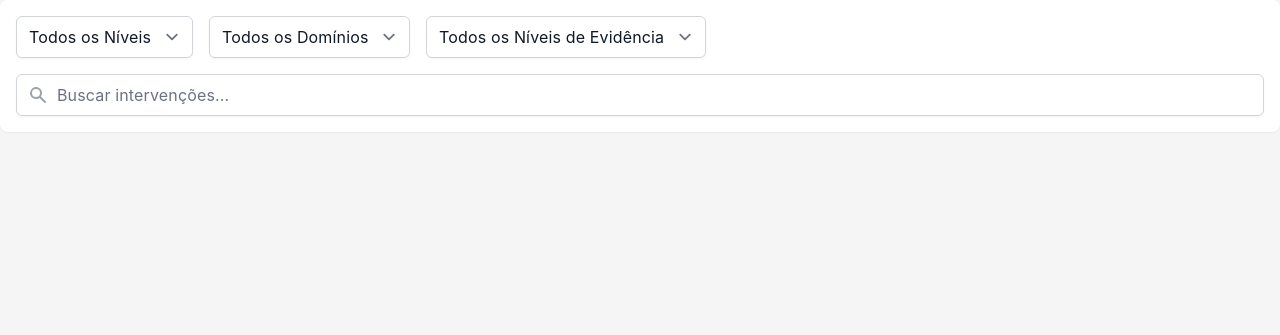
it: InterventionGallery › filtra por nível (tier)
Select "Tier 1" in the dropdown with test id "tier-select" at (104, 37), box [16,16,193,58]
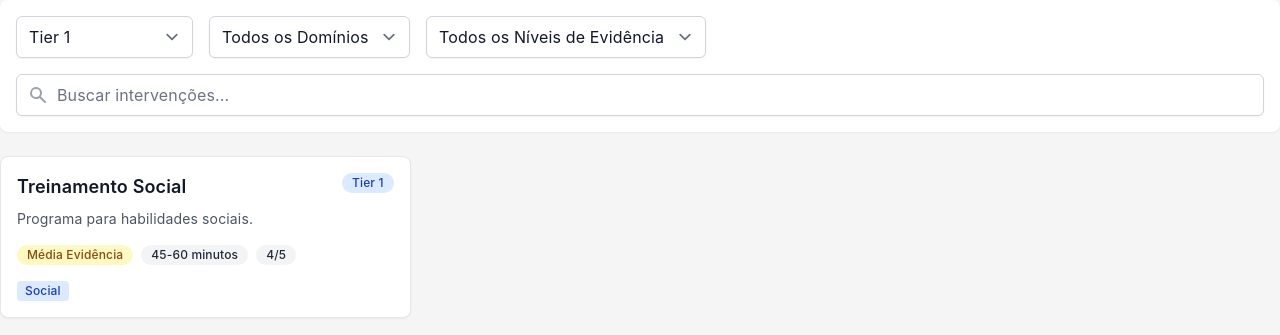
Check: the heading "Treinamento Social" is shown, box [17,173,186,201]
